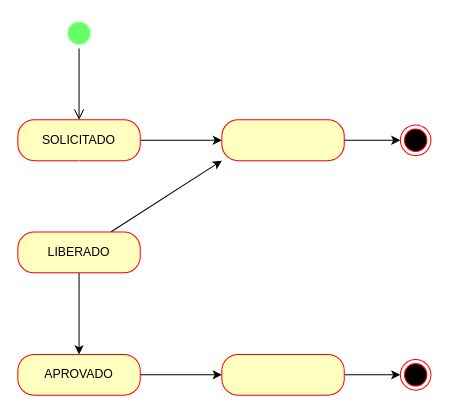
Image size: 449x413. Some labels were removed from this diagram. The shapes that lost their labels are listed below. From the top down, each one's centre as x and y in pixels, then its label:
the point at 282,140: REJEITADO
the point at 282,374: CANCELADO
